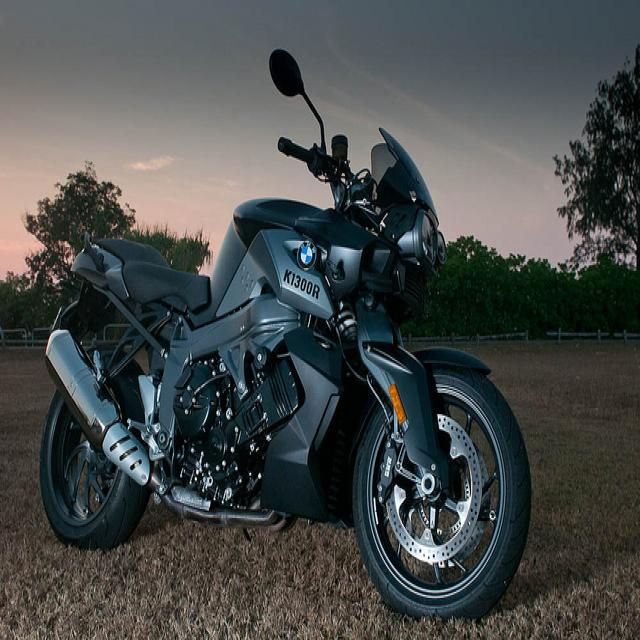motor: (40, 50, 535, 624)
